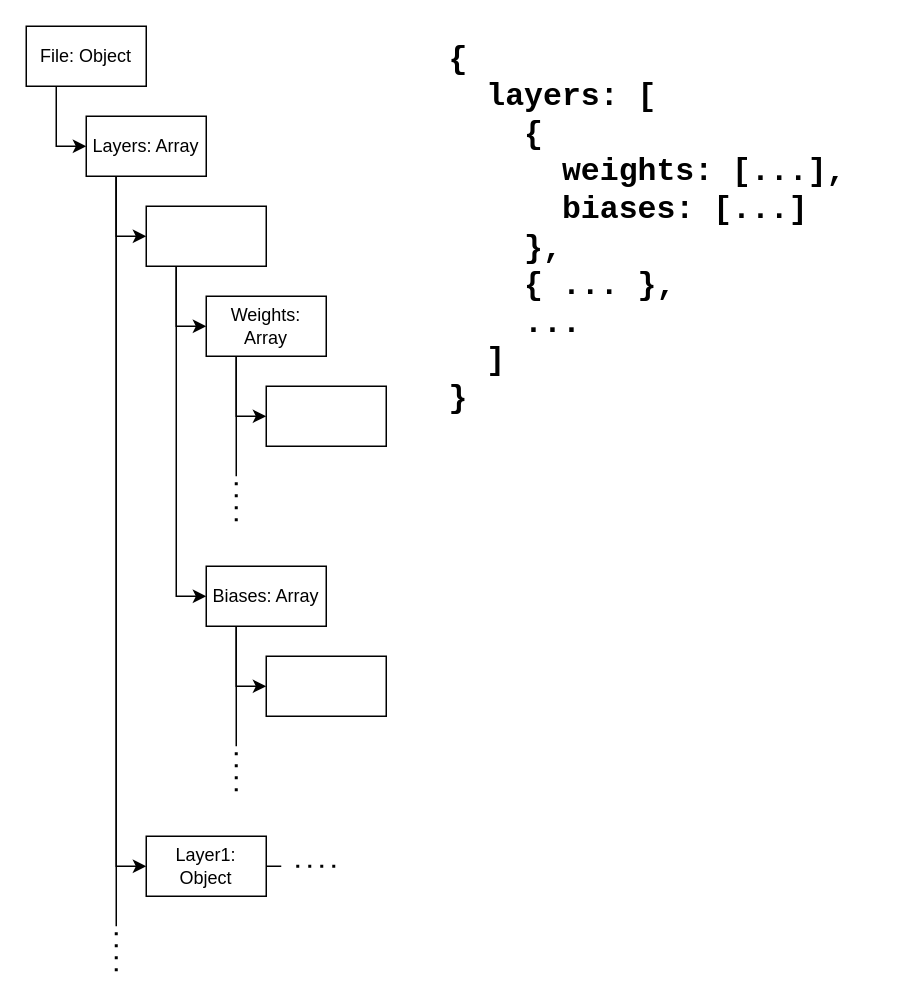
The diagram is 908 pixels wide and 1001 high, and some of its shapes have lost their labels. Each missing label, with the box of its shape:
Bias0: Double: (265, 655, 386, 716)
Layer0: Object: (145, 205, 266, 266)
Weight0: Double: (265, 385, 386, 446)
